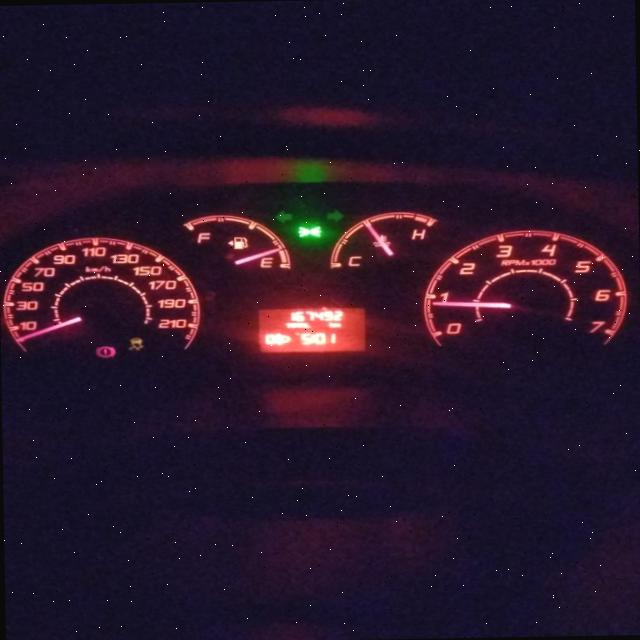odometer: (250, 302, 370, 356)
